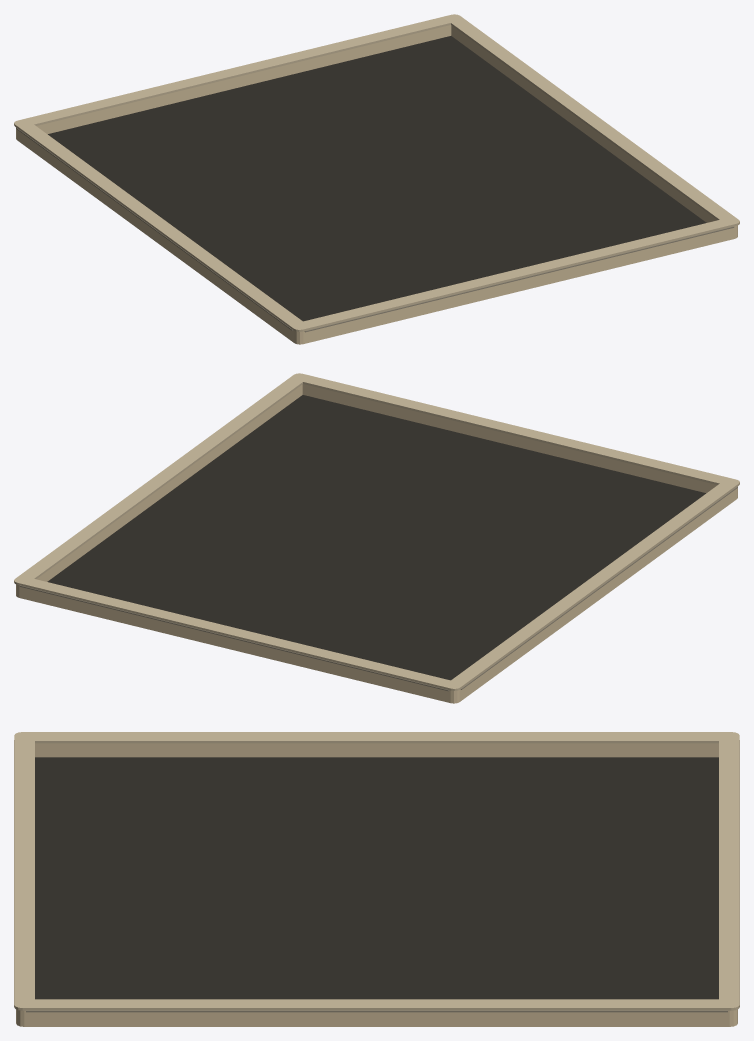
Rendered from SM_Homes_H04_Roof_LOD1.fbx.
The picture shows the model from 3 angles, top to bottom: view 1: azimuth 30°, elevation 25°; view 2: azimuth 150°, elevation 25°; view 3: azimuth 270°, elevation 25°; orthographic projection. The views are drawn at different scales.
Visible parts, largest first — view 1: SM_Homes_H04_Roof_LOD1; view 2: SM_Homes_H04_Roof_LOD1; view 3: SM_Homes_H04_Roof_LOD1.
Part boxes in pixels (x1=…): SM_Homes_H04_Roof_LOD1: x1=14, y1=14, x2=739, y2=344; SM_Homes_H04_Roof_LOD1: x1=14, y1=373, x2=739, y2=703; SM_Homes_H04_Roof_LOD1: x1=14, y1=732, x2=739, y2=1026.
Bounding box in the file's own units: 9.06 × 10.06 × 0.34.
